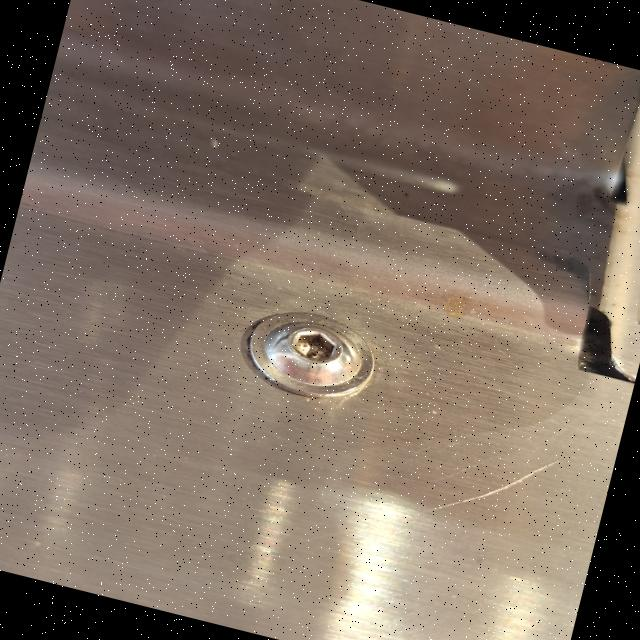Hex Socket Allen: (212, 292, 428, 436)
